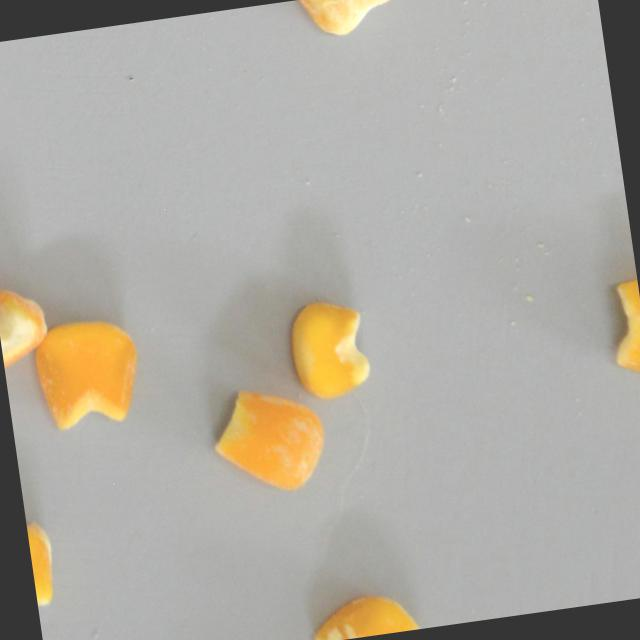dañado: (202, 376, 334, 503), (27, 310, 148, 435), (282, 297, 377, 406), (303, 579, 431, 640), (595, 267, 640, 392), (290, 0, 406, 46), (0, 280, 56, 373)
pelicula: (25, 515, 66, 624)
